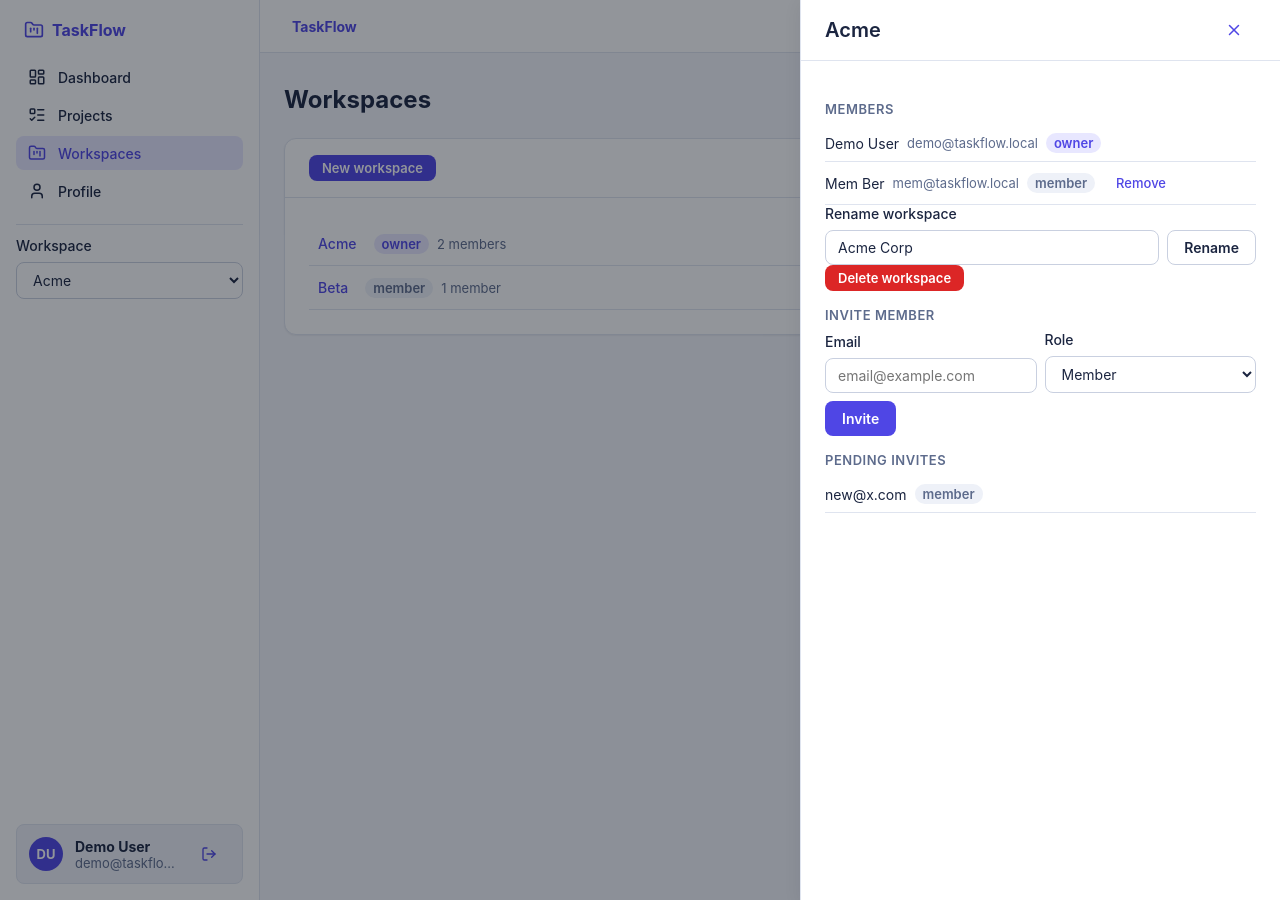
Test: workspace-pane — "Workspace mutations happen inside the drawer" (@w1) › rename posts and refreshes the workspace list
Earlier steps of the test are not shown.
Step 1. Click the button "Rename" → (1212, 248), box [1167,230,1256,265]
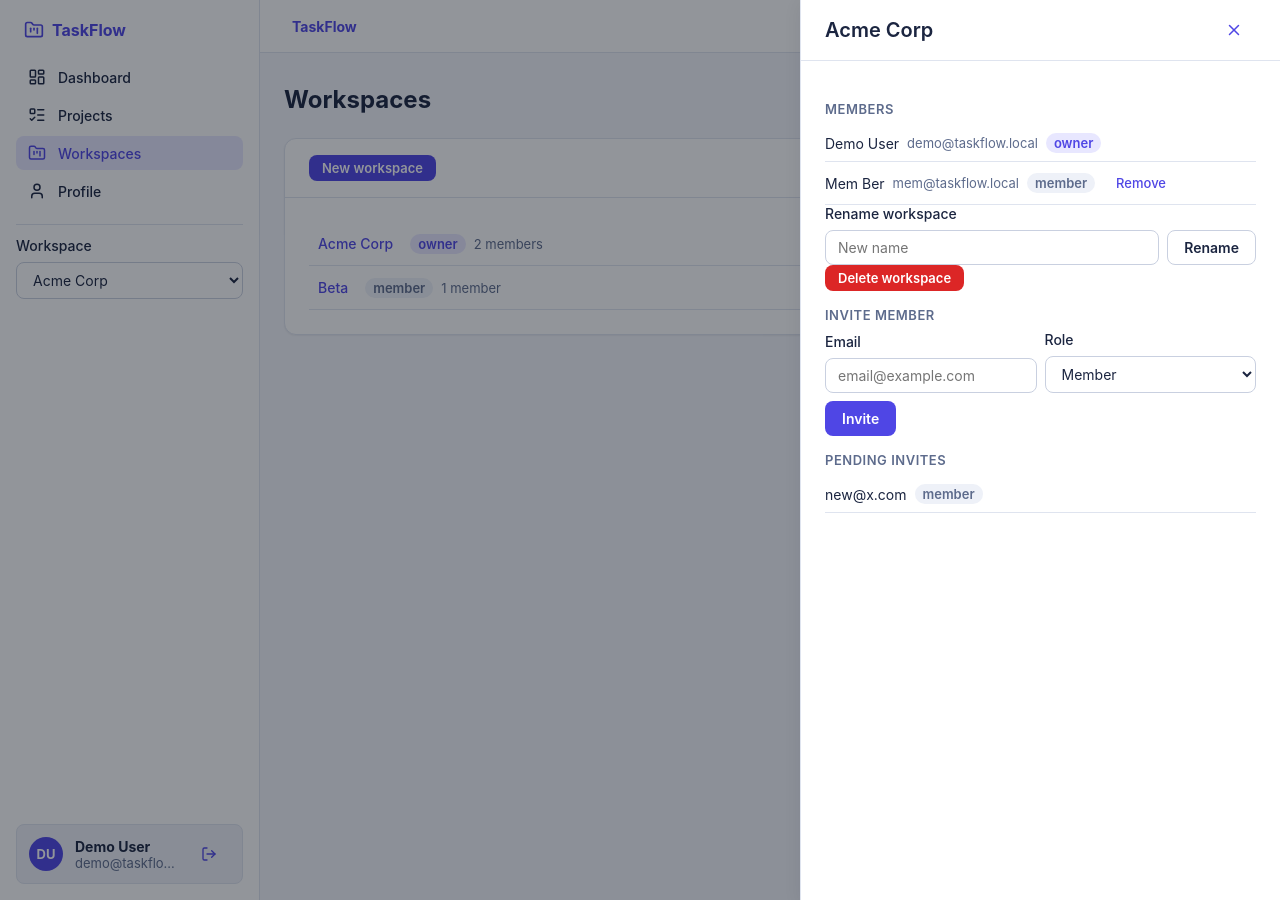
expect the button "Acme Corp" is shown: met, box [309,230,402,257]
